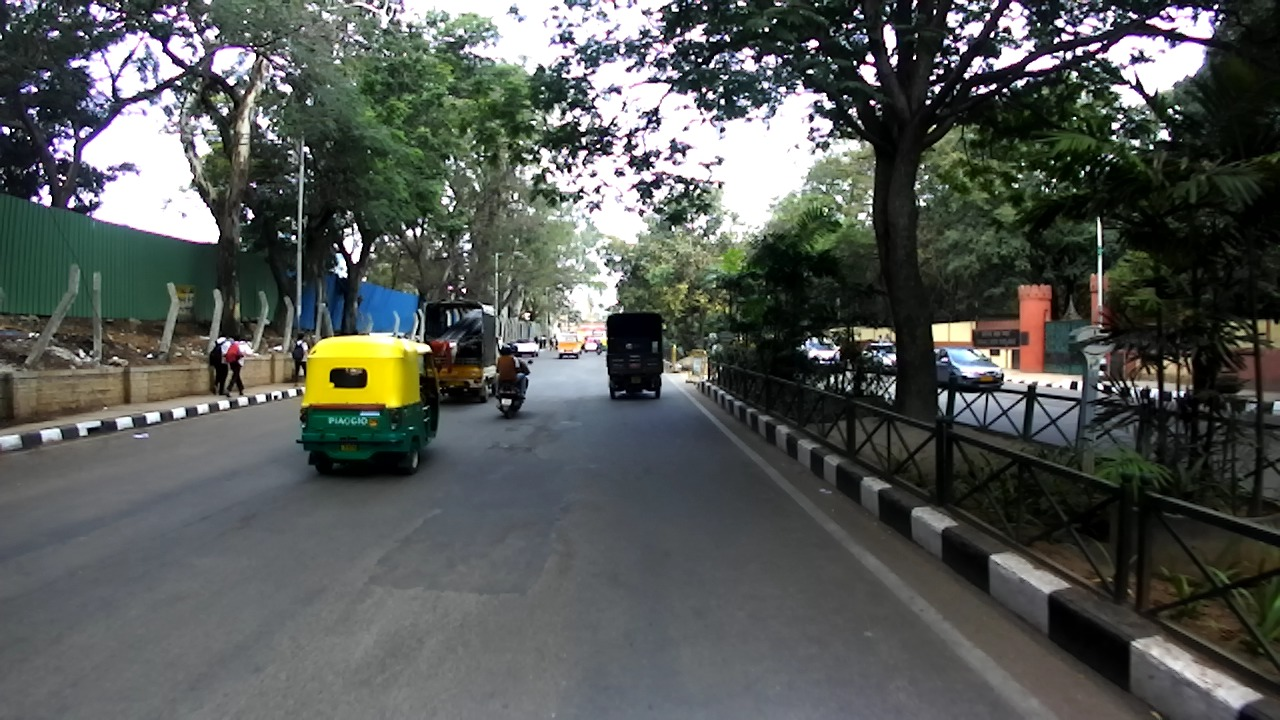autorickshaw: (296, 335, 438, 477), (605, 311, 666, 401)
car: (931, 346, 1006, 393), (796, 336, 840, 369), (862, 342, 901, 375), (514, 339, 538, 361), (584, 338, 599, 354)
motorcycle: (497, 359, 533, 418), (593, 345, 605, 355)
person: (224, 334, 259, 398), (208, 330, 227, 396), (292, 332, 311, 385), (549, 335, 557, 350), (542, 334, 548, 348), (534, 336, 541, 345), (539, 337, 543, 350)
rider: (498, 348, 526, 407), (507, 344, 527, 398), (597, 342, 605, 349)
truck: (424, 301, 500, 404), (558, 332, 582, 360)
vehicle fallback: (707, 330, 731, 352)
